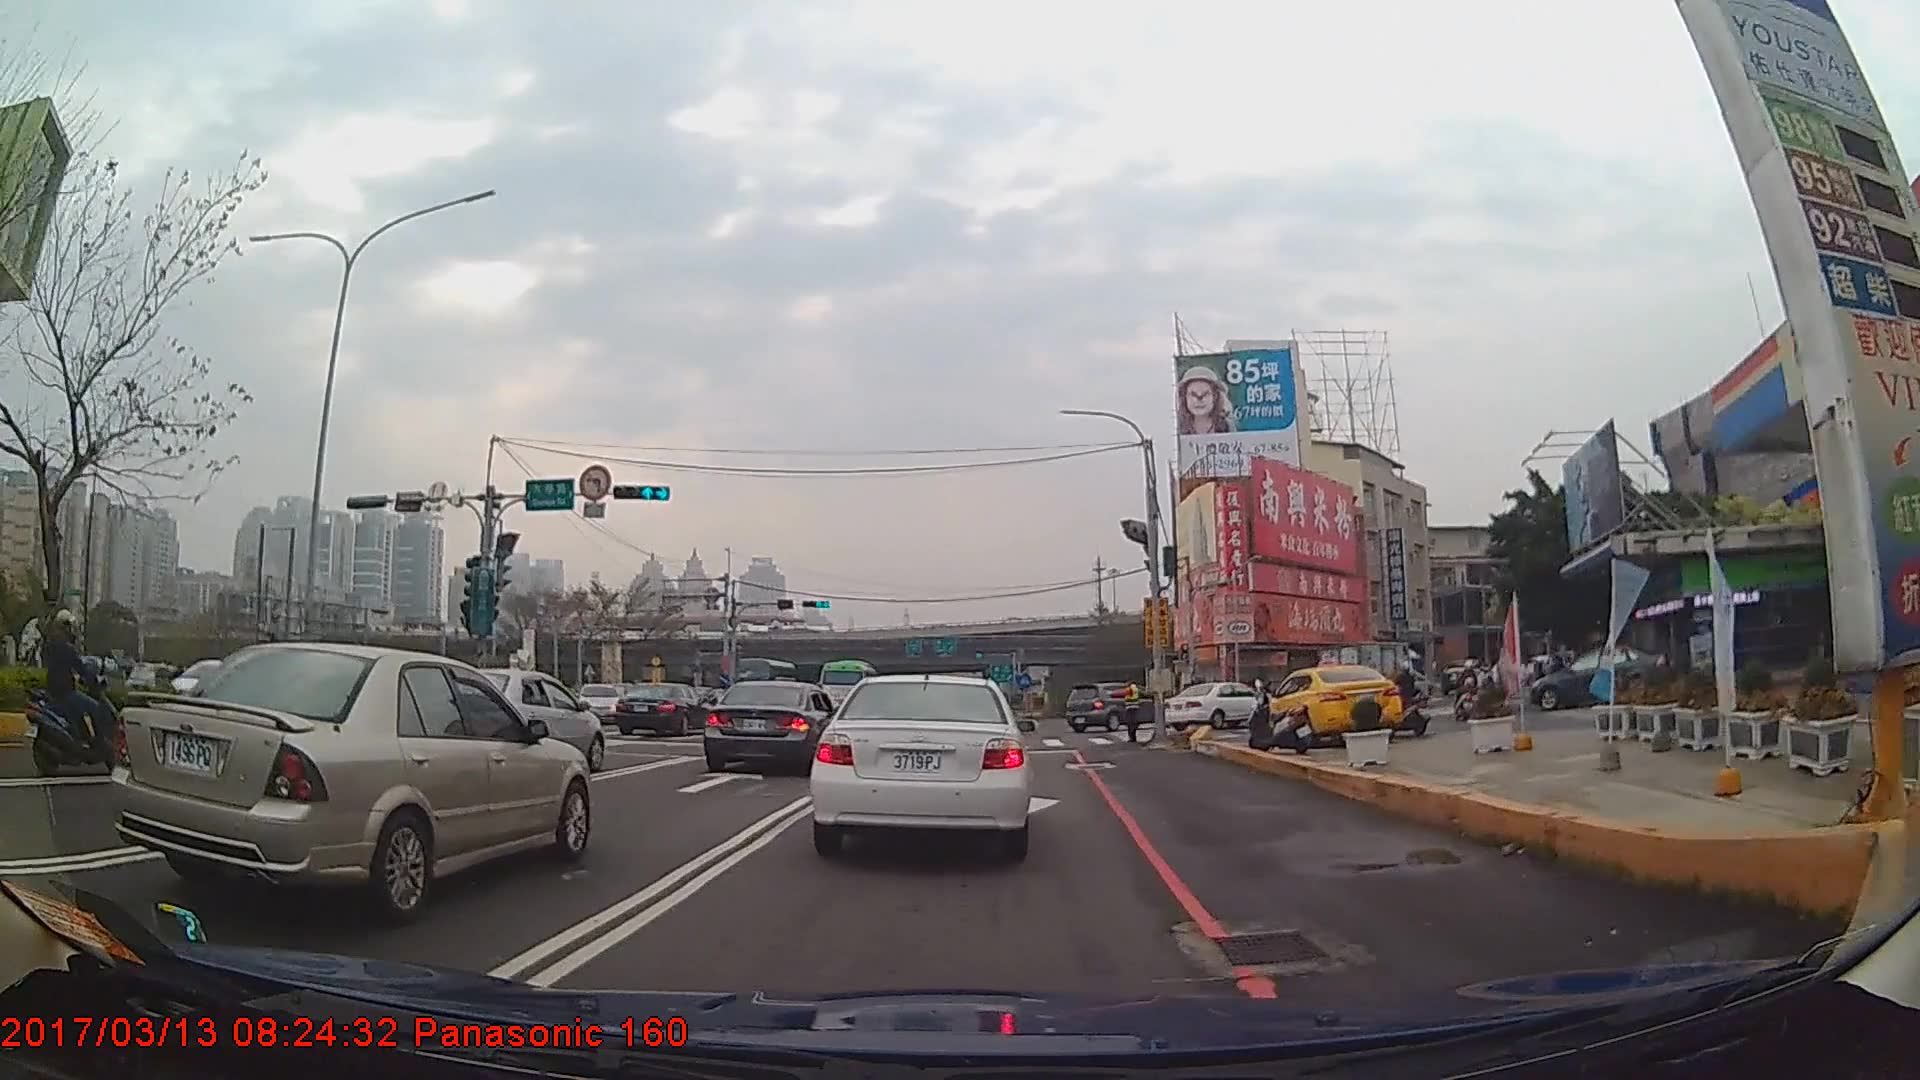pedestrian: (1107, 676, 1142, 745)
rider: (26, 612, 123, 779), (1387, 663, 1429, 739), (1454, 658, 1479, 720)
vehicle: (113, 641, 595, 919), (812, 668, 1029, 859), (422, 667, 606, 775), (699, 678, 840, 777), (1260, 662, 1404, 747), (1527, 646, 1669, 711), (1311, 641, 1428, 711), (1063, 681, 1173, 731), (1159, 680, 1270, 729), (614, 680, 708, 734), (815, 657, 878, 714)
